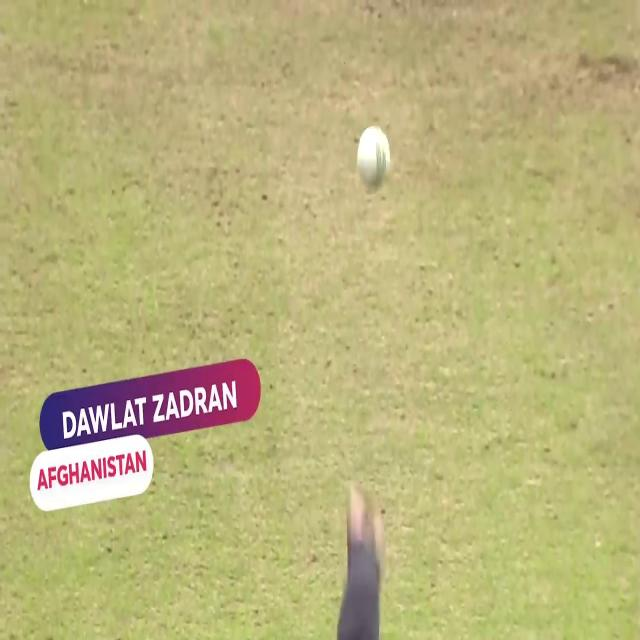ball: (355, 125, 393, 197)
